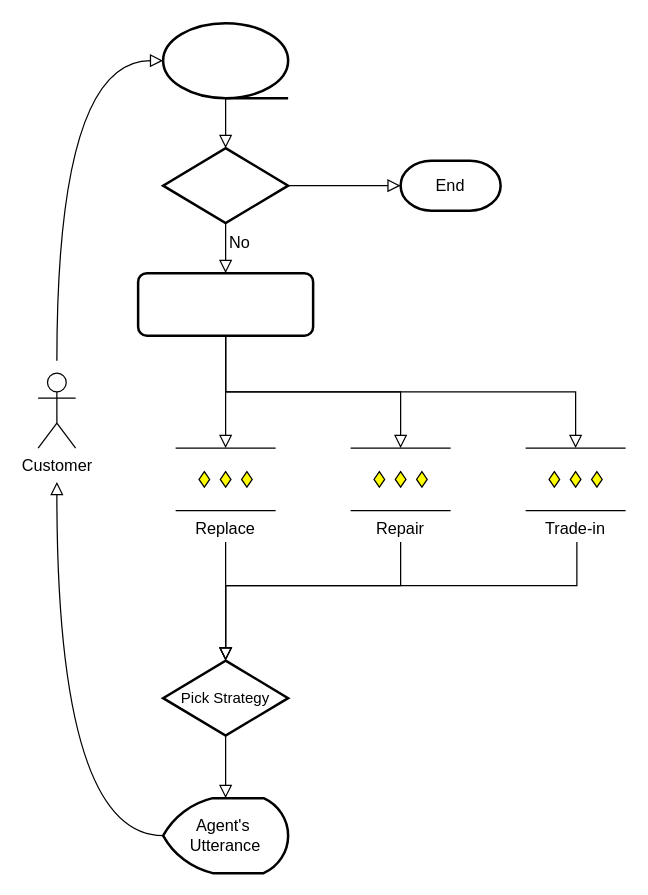
This 648x895 diagram has some shape labels left out. The shapes that lost their labels are listed below. From the top down, each one's centre as x and y in pixels, then its label:
At point (225, 60): "Customer Input".
At point (225, 185): "Satisfied?".
At point (225, 303): "Prepare Suggestion".
